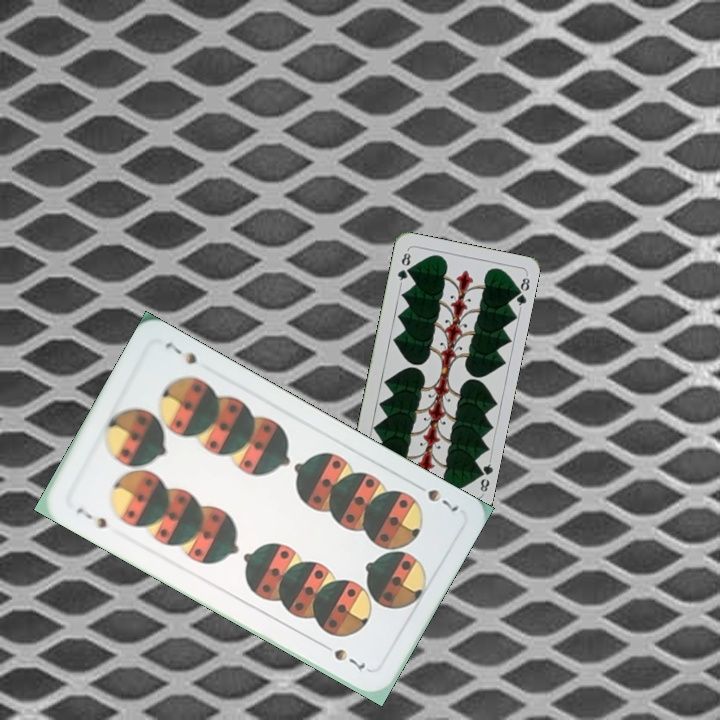G8: (473, 456, 495, 496), (393, 247, 413, 287)
S7: (409, 478, 462, 515), (72, 503, 110, 532)
